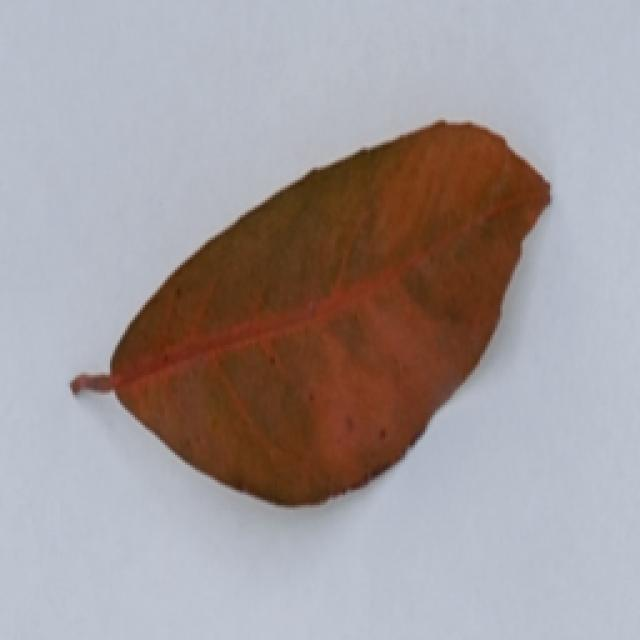greening: (58, 115, 560, 522)
